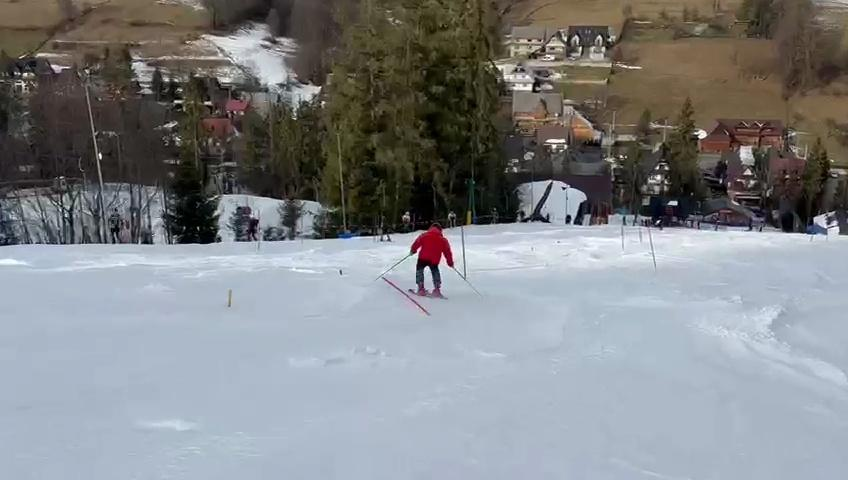gate: (371, 270, 432, 323), (451, 217, 472, 282), (642, 216, 664, 272), (616, 216, 629, 254), (217, 287, 237, 311)
